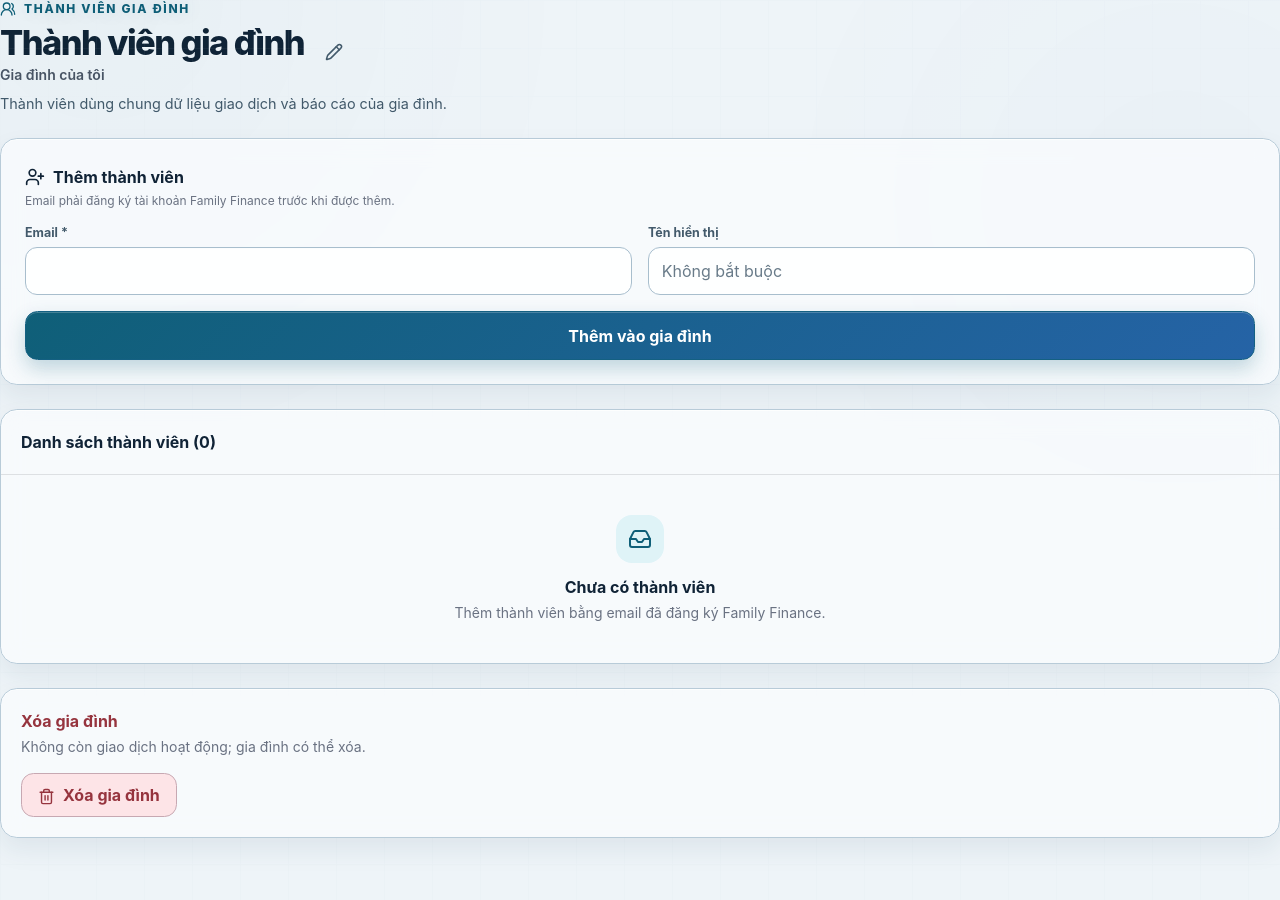
Test case: Members › hiển thị lỗi và kết thúc loading khi xóa gia đình bị reject
Click the button "Xóa gia đình": (99, 795) top-left (21, 773), bottom-right (177, 817)
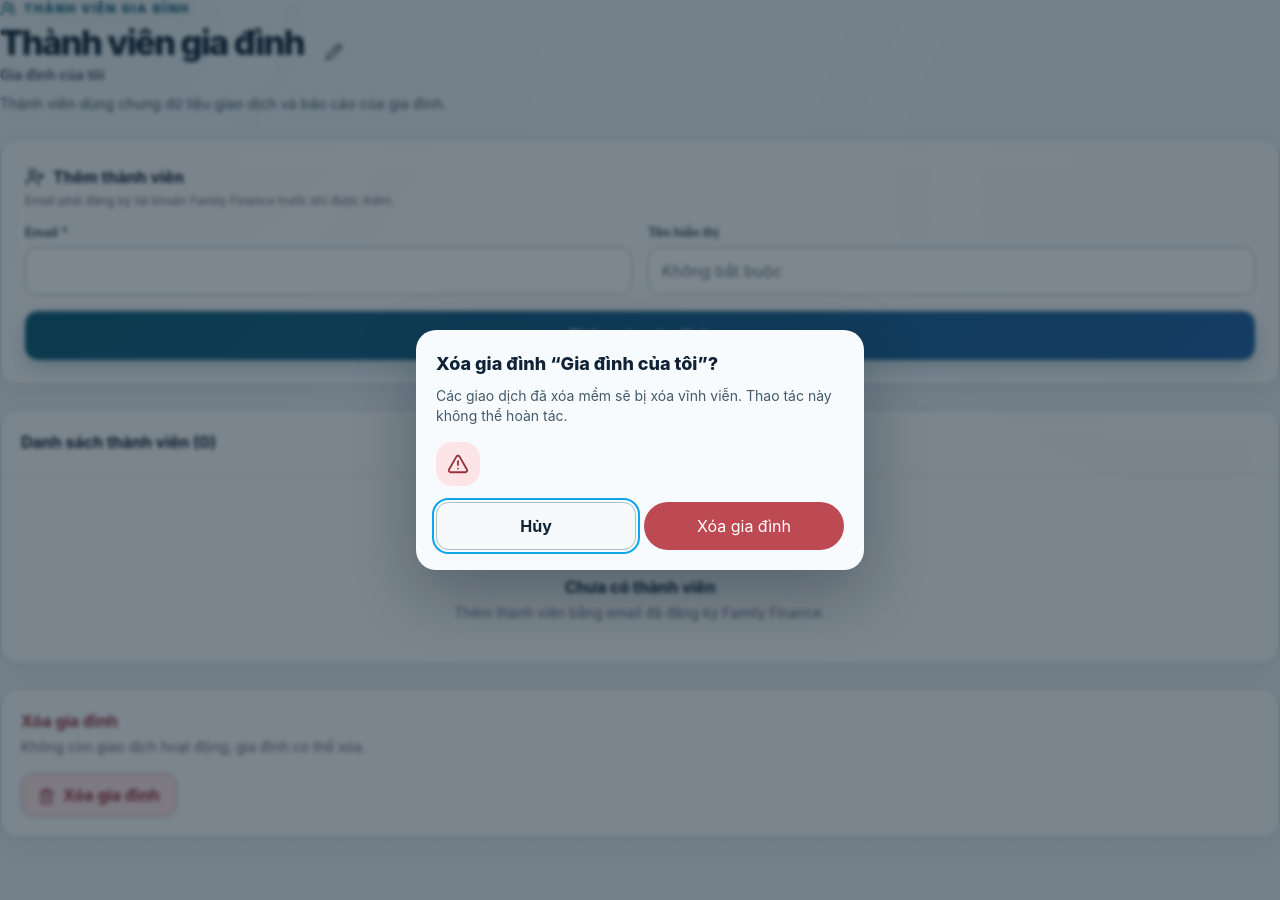
Click the button "Xóa gia đình": (744, 526) top-left (644, 502), bottom-right (844, 550)
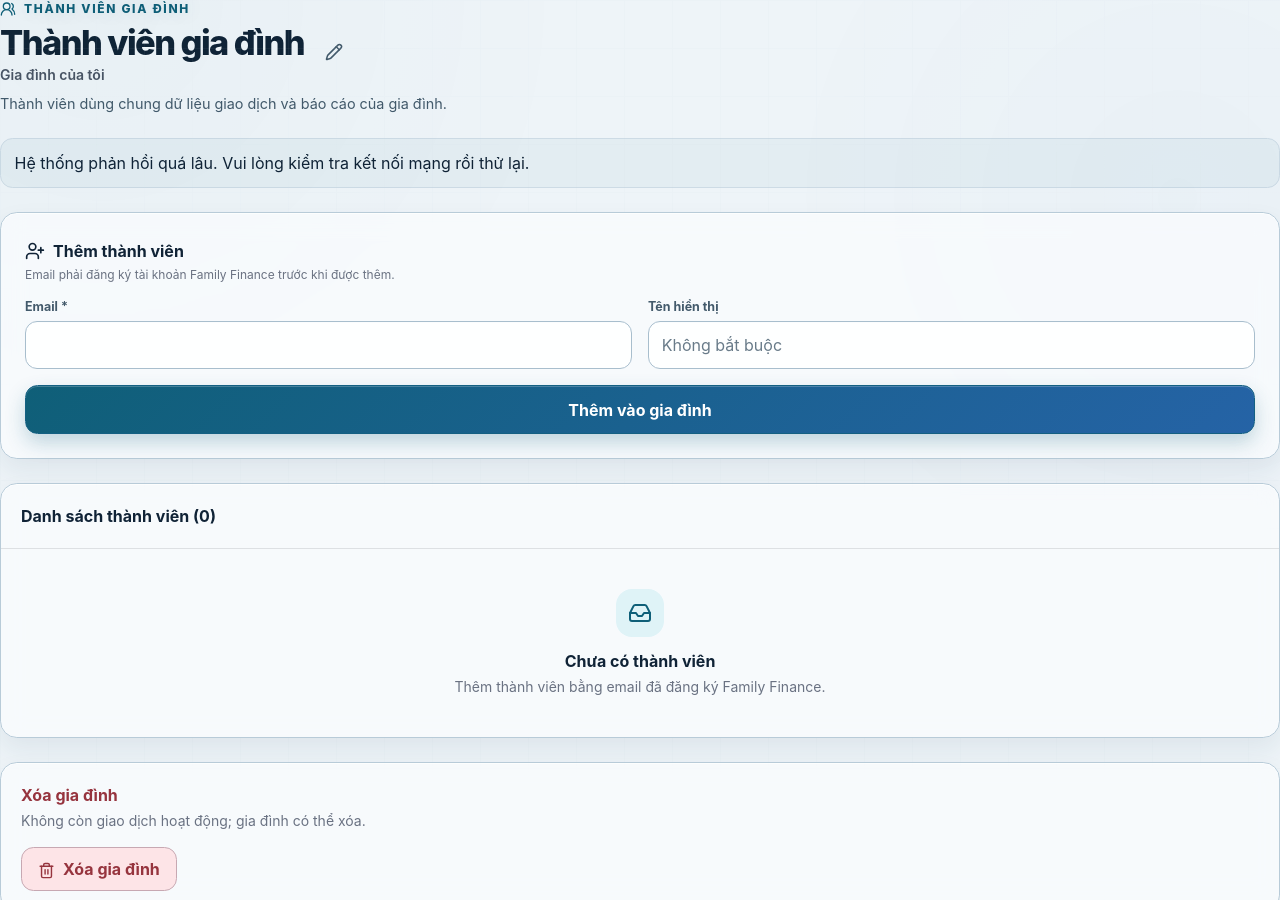
Expected: the button "Xóa gia đình" is enabled, top-left (21, 847), bottom-right (177, 891)
Result: the message "Hệ thống phản hồi quá lâu. Vui lòng kiểm tra kết nối mạng rồi thử lại." is shown at top-left (0, 138), bottom-right (1279, 188)
